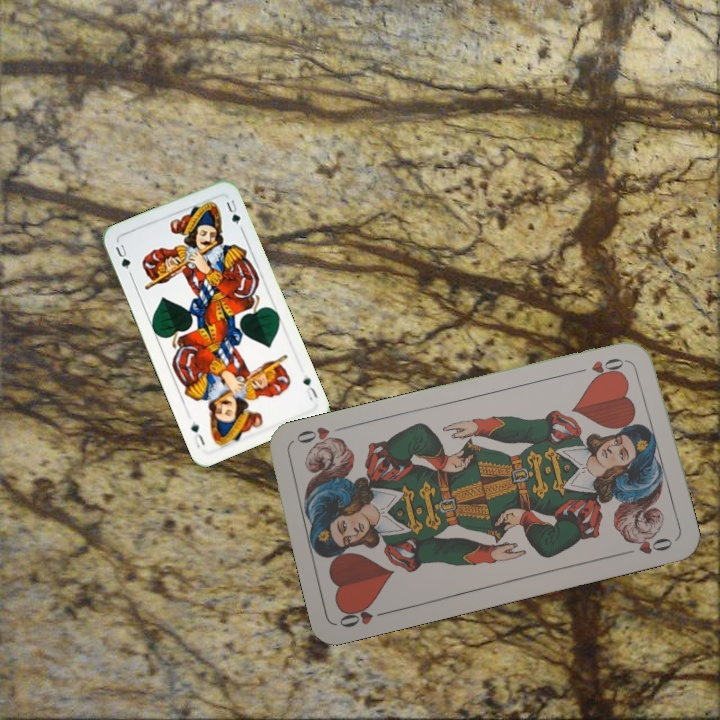GU: (111, 238, 133, 272), (299, 372, 320, 403)
HO: (335, 600, 394, 630), (572, 354, 631, 383)
